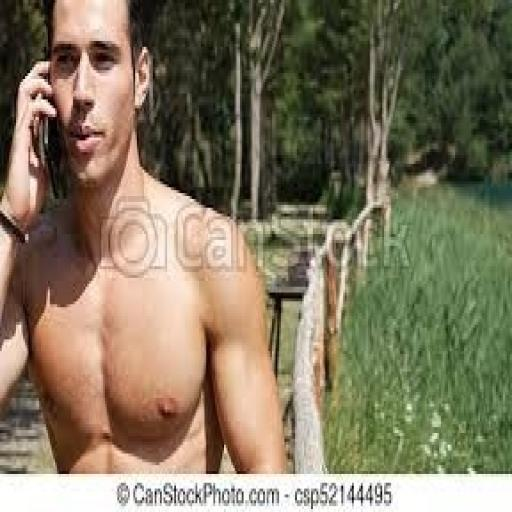calling: (0, 0, 288, 474)
